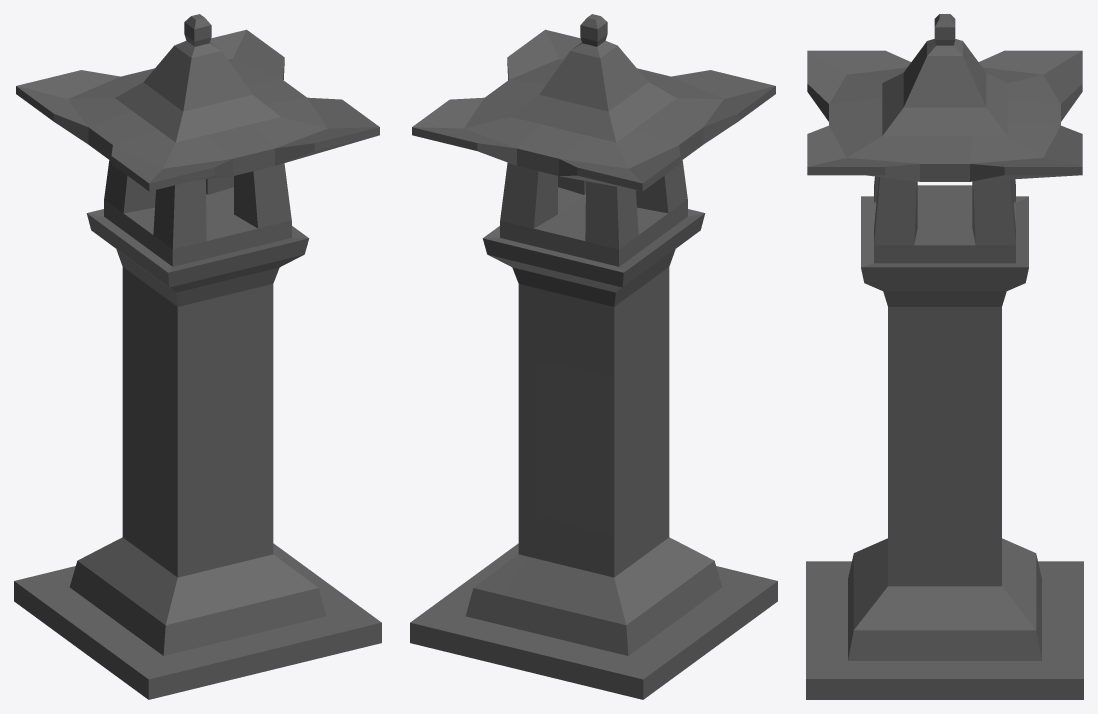
The model's file is ShrineStatue.glb.
3 views of the same model, side by side, from view 1: azimuth 30°, elevation 25°; view 2: azimuth 150°, elevation 25°; view 3: azimuth 270°, elevation 25° (orthographic). The views are drawn at different scales.
Parts seen in each view (by area): view 1: Shrine_Statue_2; view 2: Shrine_Statue_2; view 3: Shrine_Statue_2.
Part boxes in pixels (box(x1,y1,x2,y2)): Shrine_Statue_2: box(14, 14, 381, 699); Shrine_Statue_2: box(410, 14, 777, 699); Shrine_Statue_2: box(806, 14, 1083, 699).
Bounding box in the file's own units: 0.2883 × 0.7152 × 0.2883.
1 material, 1 textured.
